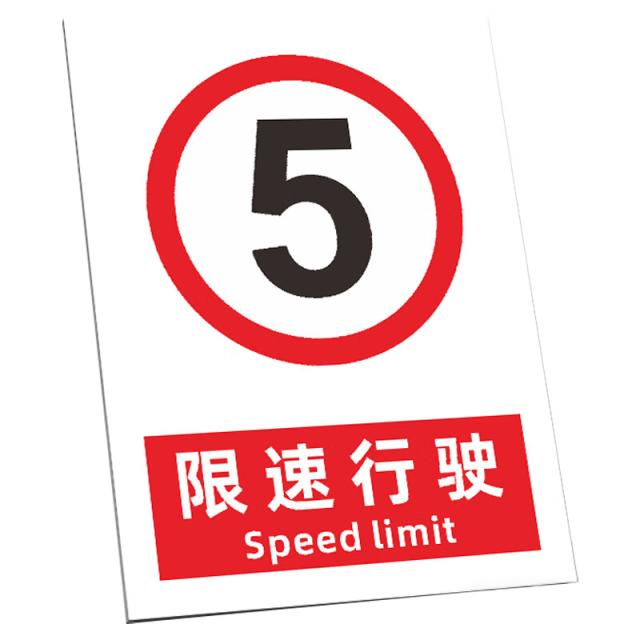speed limit 10: (145, 55, 462, 367)
